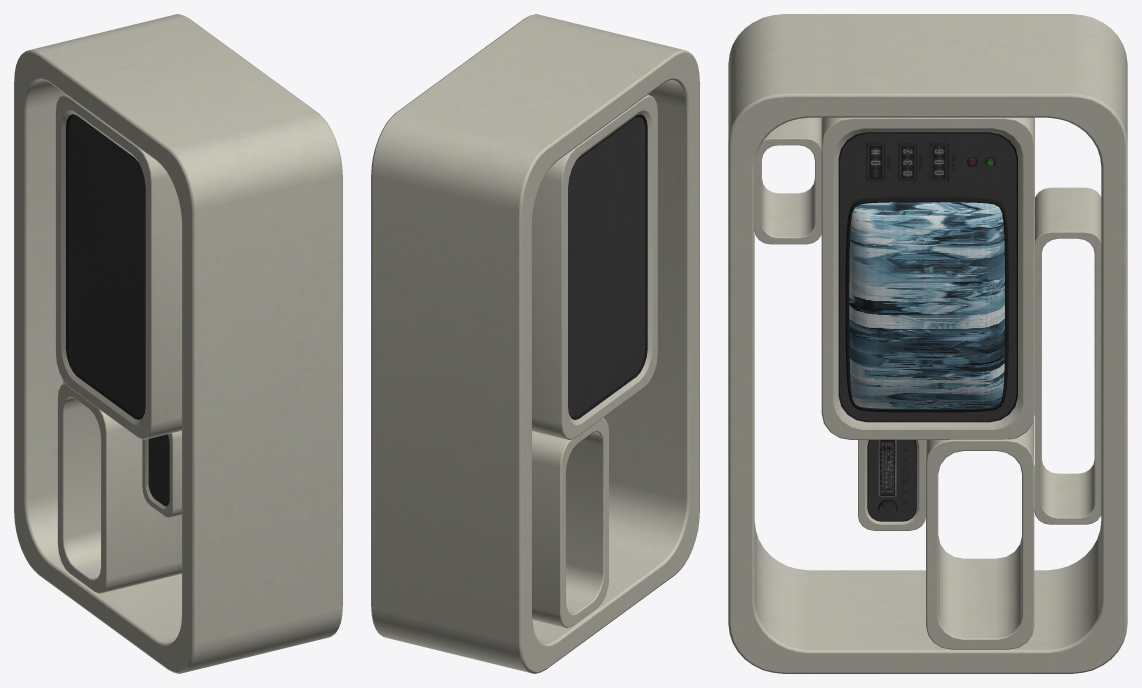
File: nt_entertainment_center_LOD0.obj
3 renders of one model, left to right at view 1: azimuth 30°, elevation 25°; view 2: azimuth 150°, elevation 25°; view 3: azimuth 270°, elevation 25°, orthographic. The views are drawn at different scales.
Parts seen in each view (by area): view 1: mtl_nt_entertainment_center, mtl_nt_tv_wall; view 2: mtl_nt_entertainment_center, mtl_nt_tv_wall; view 3: mtl_nt_entertainment_center, mtl_nt_2020_screen_animated_01, mtl_nt_tv_wall.
Part boxes in pixels (x1,y1,x2,y2): mtl_nt_entertainment_center: [14, 14, 342, 673]; mtl_nt_tv_wall: [66, 114, 169, 506]; mtl_nt_entertainment_center: [371, 14, 699, 673]; mtl_nt_tv_wall: [568, 114, 647, 419]; mtl_nt_entertainment_center: [728, 14, 1127, 673]; mtl_nt_2020_screen_animated_01: [849, 202, 1004, 408]; mtl_nt_tv_wall: [838, 132, 1017, 521].
Bounding box in the file's own units: 80.84 × 244 × 152.
